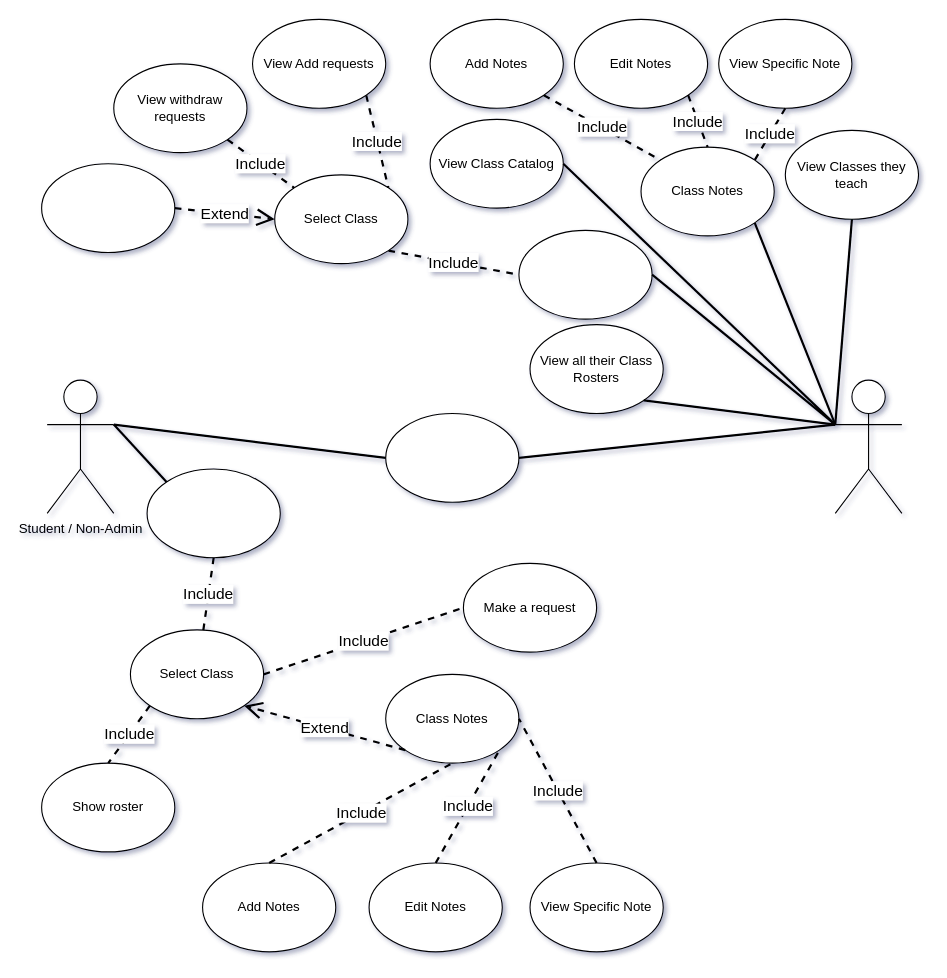
This 947x978 diagram has some shape labels left out. Each missing label, with the centre of its shape:
"Approve/Decline Requests" belongs at point (108, 208).
"Create Account" belongs at point (452, 457).
"Professor / Admin" belongs at point (868, 446).
"Registration Requests" belongs at point (585, 274).
"View Registered Classes" belongs at point (213, 513).
